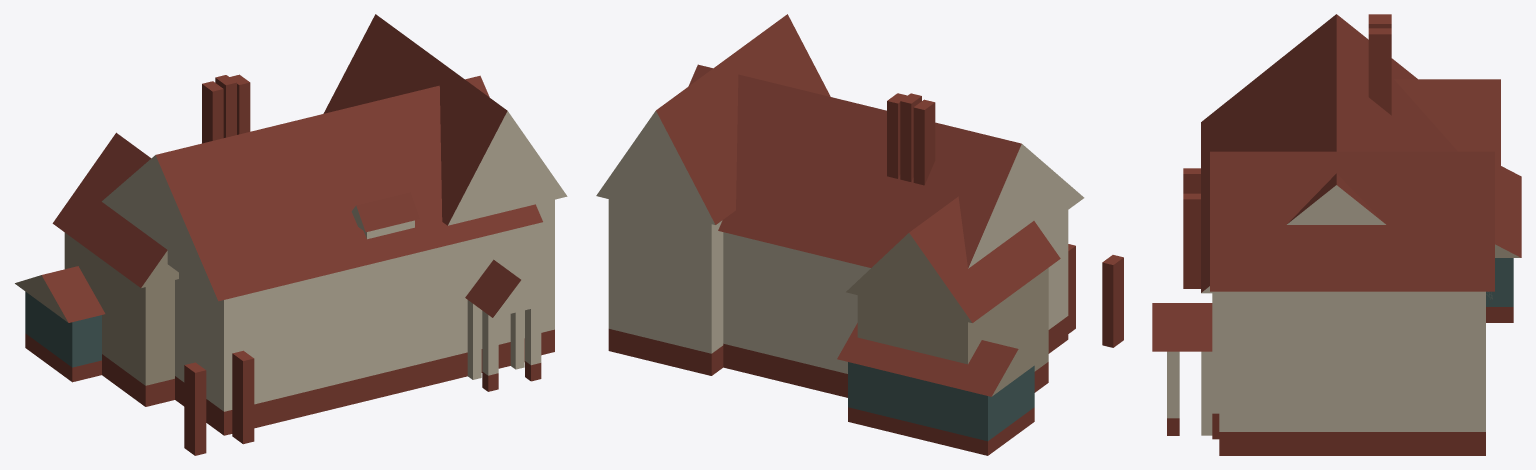
The model's file is test_hudec-memorial-massing-iteration0.glb.
3 renders of one model, left to right at view 1: azimuth 30°, elevation 25°; view 2: azimuth 150°, elevation 25°; view 3: azimuth 270°, elevation 25°, orthographic. The views are drawn at different scales.
Visible parts, largest first — view 1: hudec-memorial-massing; view 2: hudec-memorial-massing; view 3: hudec-memorial-massing.
Part boxes in pixels (box(x1,y1,x2,y2)): hudec-memorial-massing: box(15, 14, 567, 455); hudec-memorial-massing: box(596, 14, 1123, 455); hudec-memorial-massing: box(1152, 14, 1521, 455).
Size of the model in its own units: 11.08 by 7.23 by 8.03.
